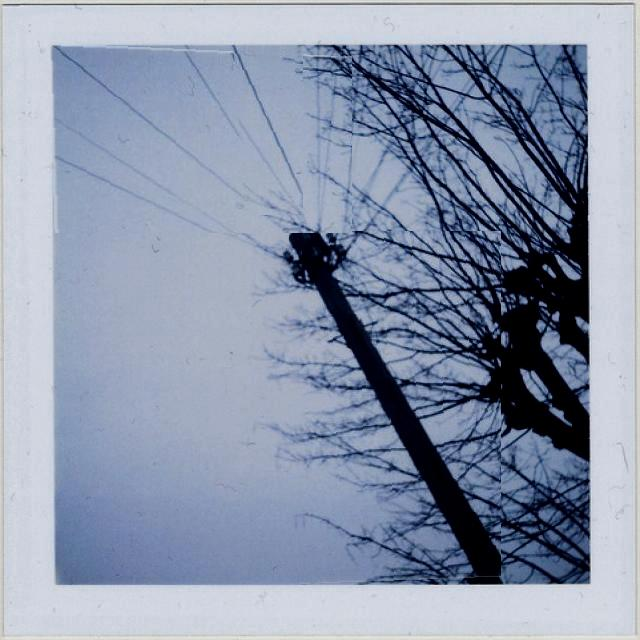pole: (290, 231, 501, 579)
wire: (50, 43, 326, 233), (233, 46, 303, 208)
